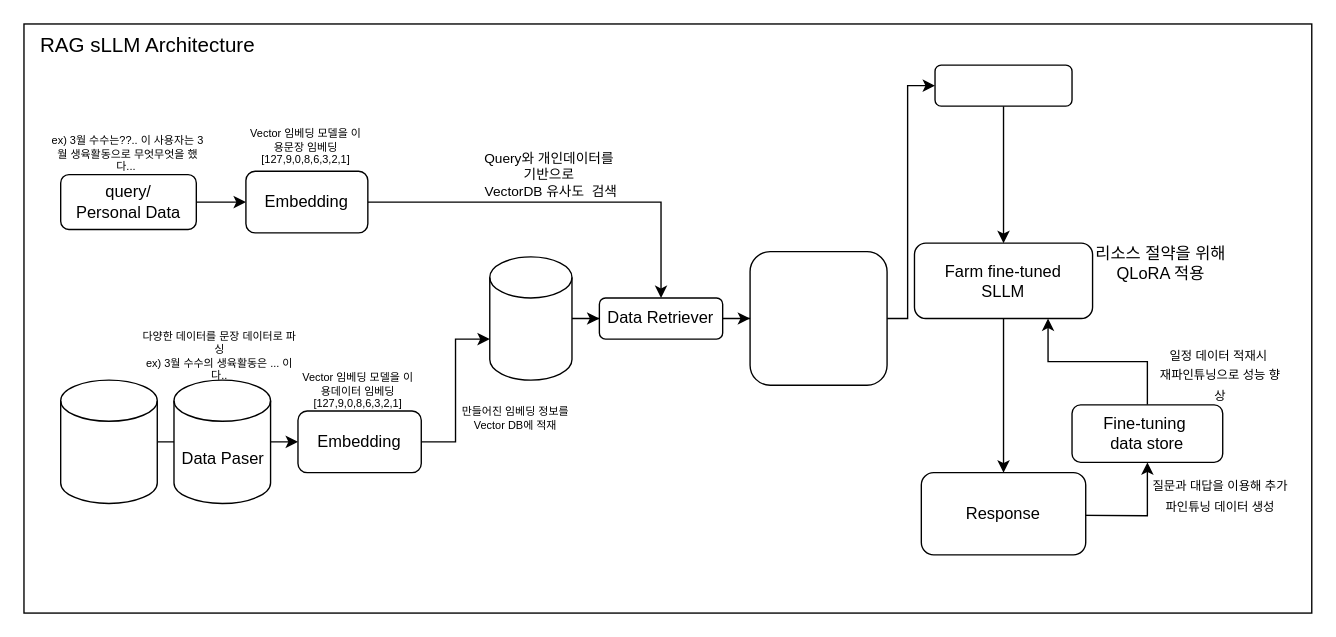
This 1336x637 diagram has some shape labels left out. Each missing label, with the box of its shape:
Database (MySQL): (59, 379, 157, 503)
Final Prompt: (934, 64, 1072, 106)
Query + retrieved Data + Personal Data: (749, 250, 887, 385)
VectorDB (FAISS): (488, 256, 572, 380)
